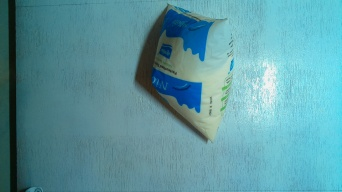m: (142, 1, 242, 144)
